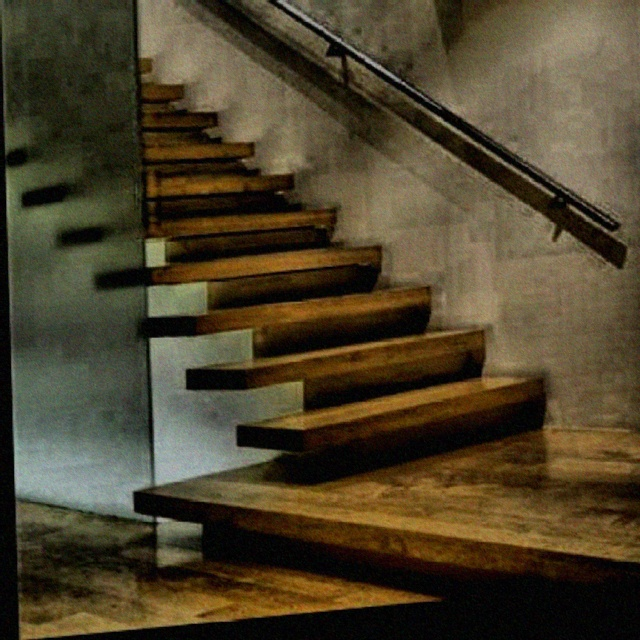stair: (63, 26, 545, 454)
